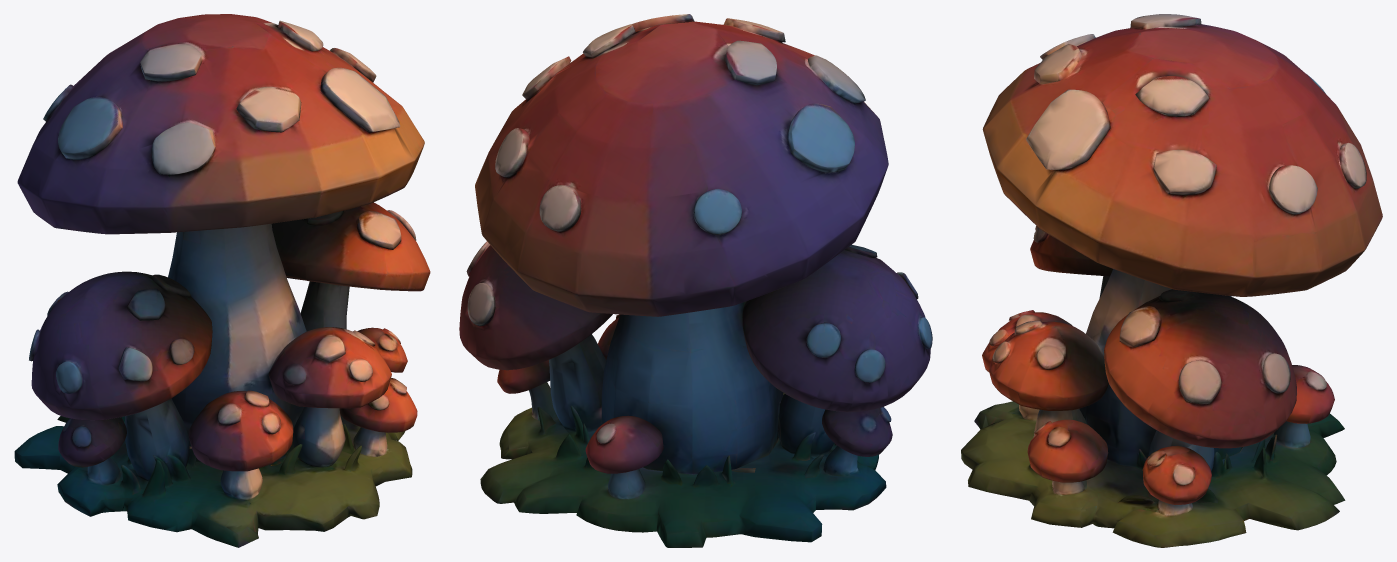
File: mushroom.opt.glb
3 views of the same model, side by side, from view 1: azimuth 30°, elevation 25°; view 2: azimuth 150°, elevation 25°; view 3: azimuth 270°, elevation 25° (orthographic). The views are drawn at different scales.
Visible parts, largest first — view 1: node_0; view 2: node_0; view 3: node_0.
Part boxes in pixels (left/top/right/bottom): node_0: left=14, top=14, right=430, bottom=547; node_0: left=459, top=14, right=932, bottom=547; node_0: left=961, top=14, right=1382, bottom=547.
Bounding box in the file's own units: 0.8736 × 0.8756 × 0.7868.
Materials: 1 (1 with a texture image).
